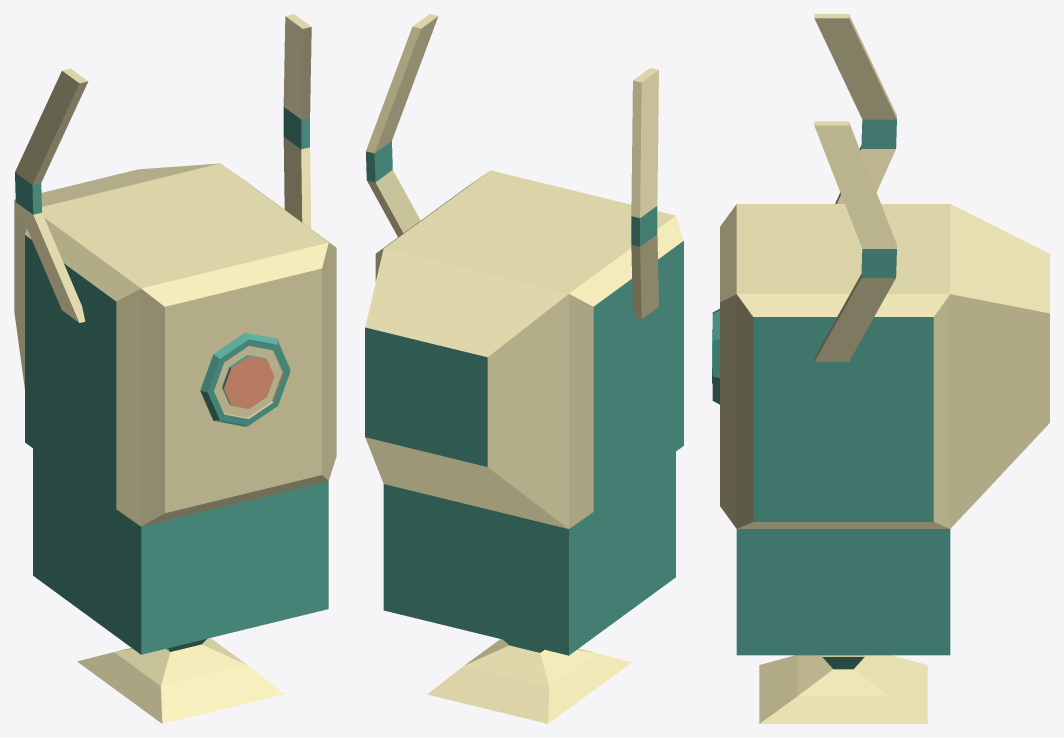
The model's file is playerModel.fbx.
3 views of the same model, side by side, from view 1: azimuth 30°, elevation 25°; view 2: azimuth 150°, elevation 25°; view 3: azimuth 270°, elevation 25° (orthographic).
Parts seen in each view (by area): view 1: Cube; view 2: Cube; view 3: Cube.
Part boxes in pixels (x1,y1,x2,y2): Cube: (14,14,336,723); Cube: (365,14,683,723); Cube: (712,14,1049,723).
Bounding box in the file's own units: 253 × 552 × 271.
